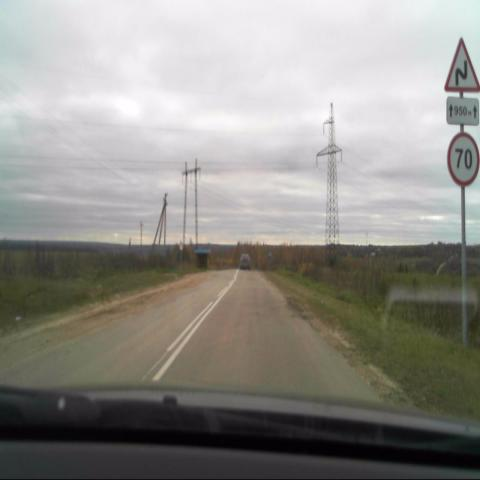1_12: (444, 34, 478, 92)
